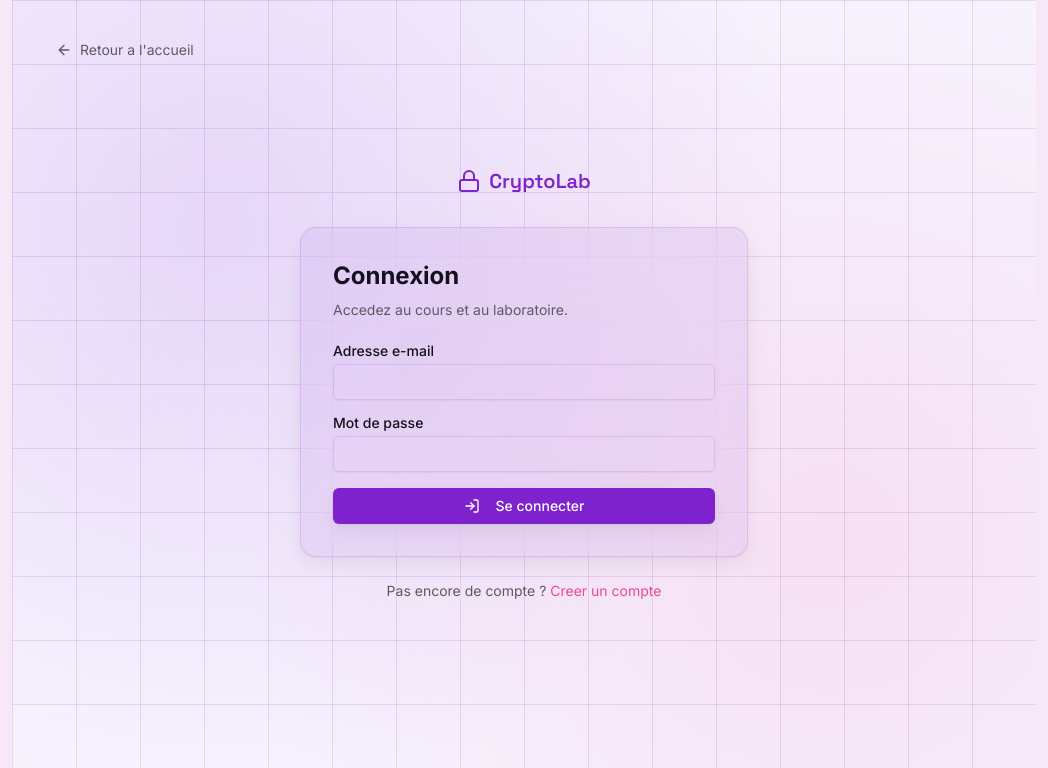
echec de connexion › affiche le message du backend et laisse le formulaire utilisable
Type "etudiant@fsm.tn" into the field labelled "Adresse e-mail" at {"x": 524, "y": 382}, box [333,364,715,400]
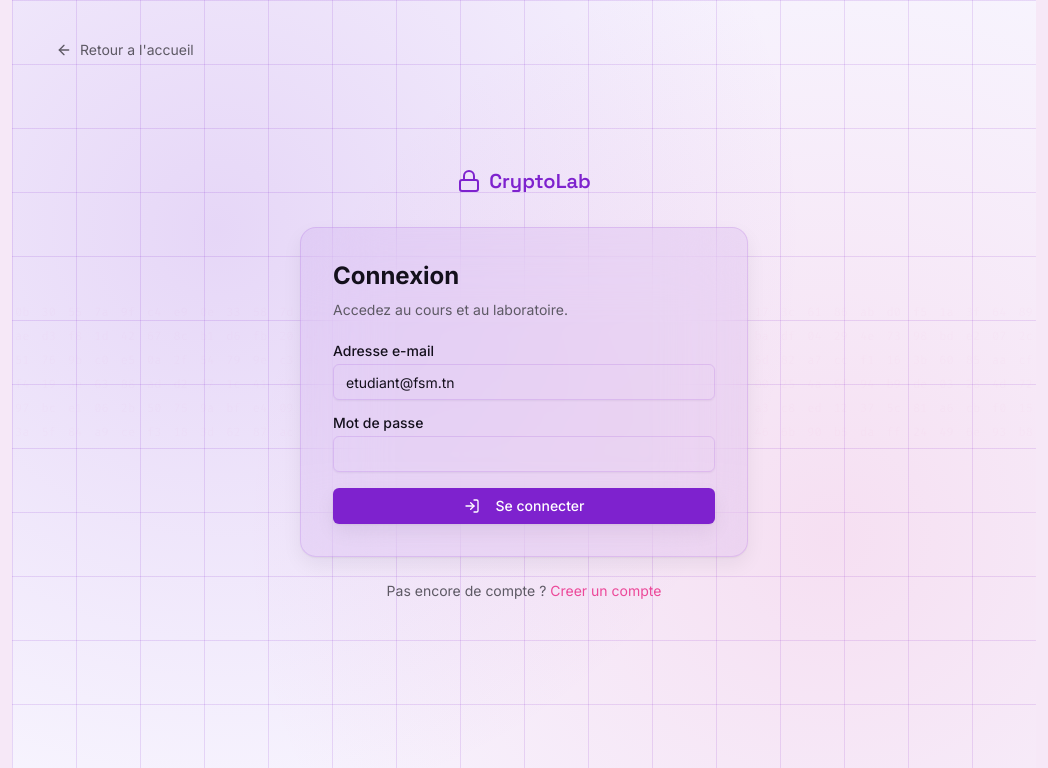
Type "mauvais mot de passe" into the password field labelled "Mot de passe" at {"x": 524, "y": 454}, box [333,436,715,472]
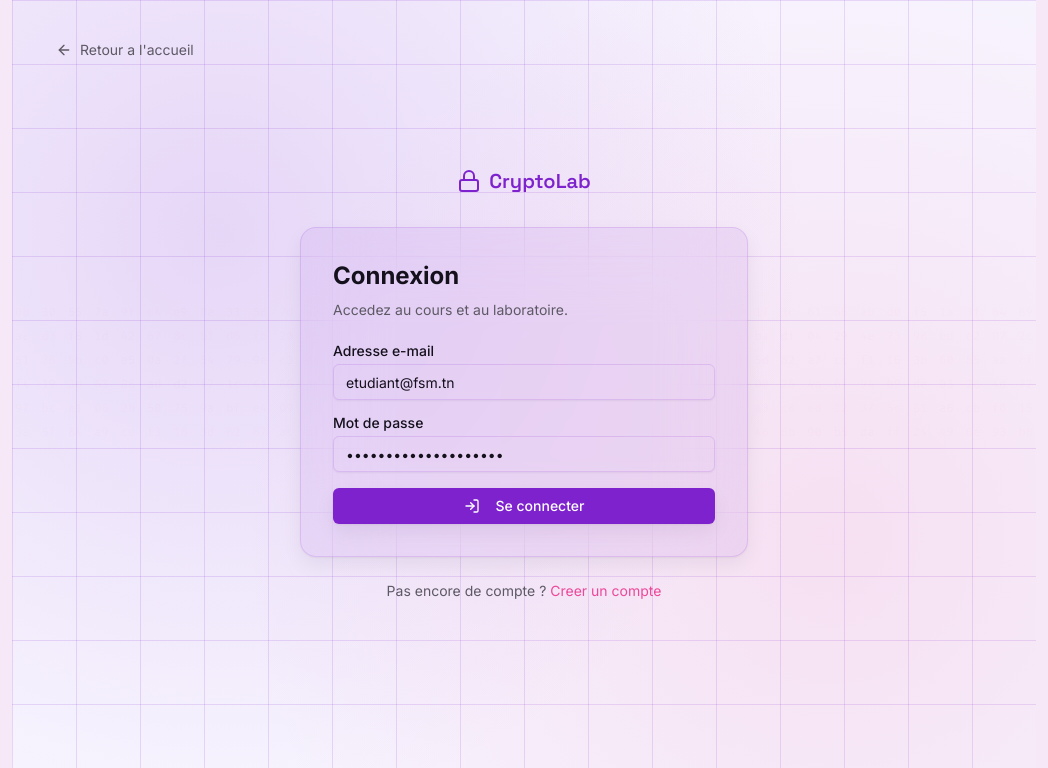
Click the button "Se connecter" at {"x": 524, "y": 506}, box [333,488,715,524]
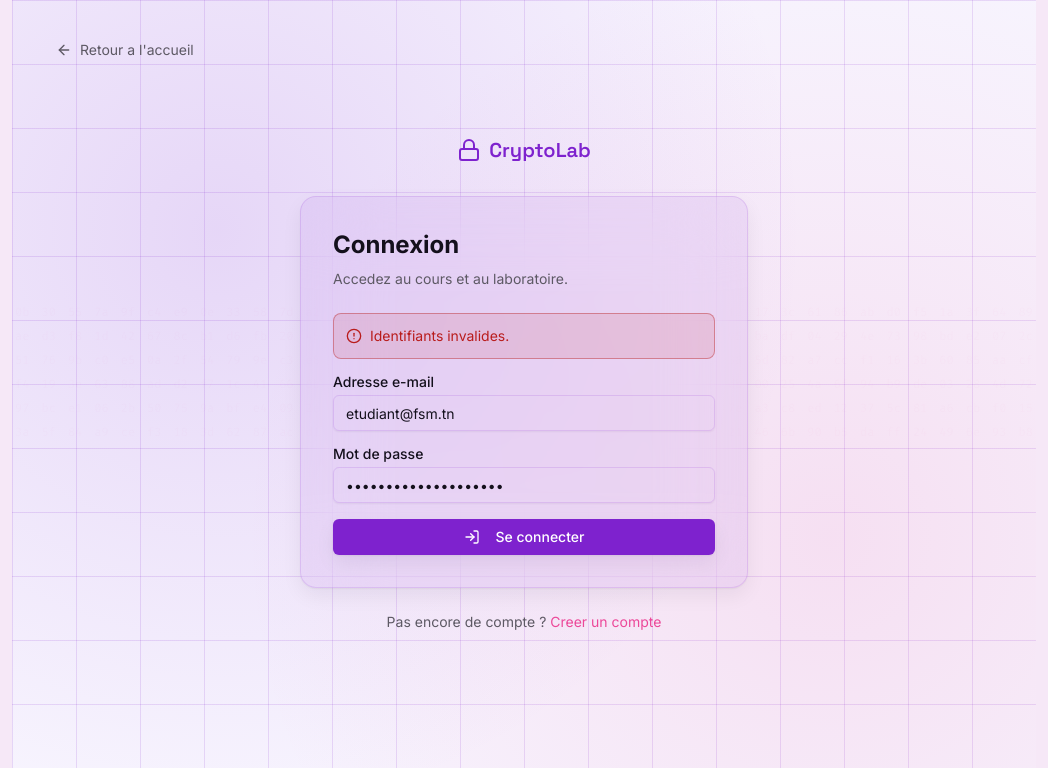
Expected: the button "Se connecter" is enabled, [333,519,715,555]
Now the message reads "Identifiants invalides.", box [370,327,509,344]
